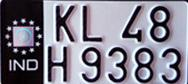3: (159, 46, 183, 83), (105, 45, 128, 83)
4: (118, 4, 144, 43)
8: (147, 4, 171, 42), (132, 46, 155, 82)
9: (79, 45, 101, 82)
H: (44, 44, 70, 81)
K: (52, 3, 77, 42)
L: (79, 4, 103, 43)
